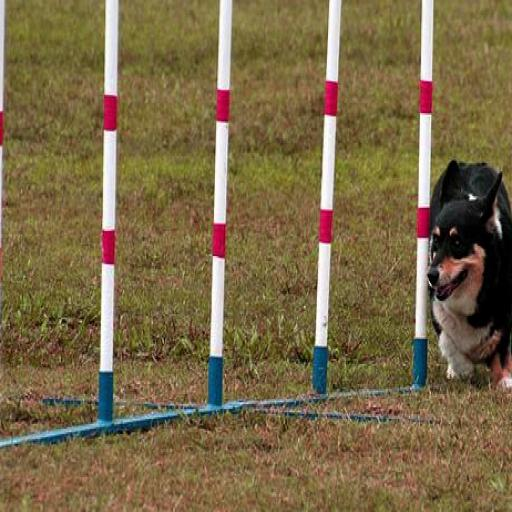dog_face: (426, 166, 504, 296)
